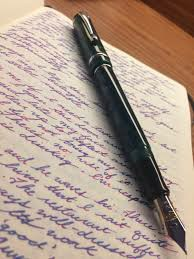pen: (71, 12, 185, 249)
